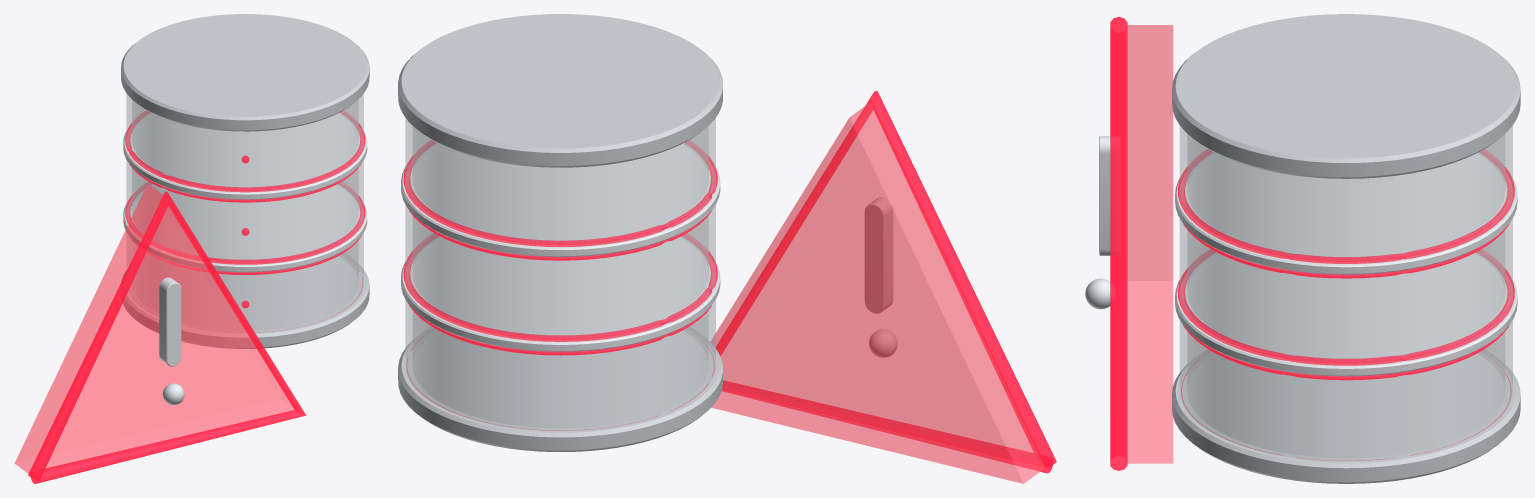
File: 28-risk.glb
3 renders of one model, left to right at view 1: azimuth 30°, elevation 25°; view 2: azimuth 150°, elevation 25°; view 3: azimuth 270°, elevation 25°, orthographic. The views are drawn at different scales.
Parts seen in each view (by area): view 1: BC satin silver metal, BC clear optical glass, BC ruby optical glass, BC polished silver metal, BC neon red glass edge; view 2: BC clear optical glass, BC satin silver metal, BC ruby optical glass, BC polished silver metal, BC neon red glass edge; view 3: BC clear optical glass, BC satin silver metal, BC polished silver metal, BC ruby optical glass, BC neon red glass edge.
Boxes of the visible parts, x1,y1,x2,y2 form: BC satin silver metal: (121,14,369,348); BC clear optical glass: (126,93,363,332); BC ruby optical glass: (14,184,297,473); BC polished silver metal: (123,113,367,405); BC neon red glass edge: (28,111,365,483); BC clear optical glass: (405,118,715,430); BC satin silver metal: (398,14,722,451); BC ruby optical glass: (711,102,1044,483); BC polished silver metal: (401,143,897,357); BC neon red glass edge: (403,91,1056,473); BC clear optical glass: (1179,125,1512,461); BC satin silver metal: (1172,14,1520,483); BC polished silver metal: (1085,136,1517,376); BC ruby optical glass: (1125,25,1173,463); BC neon red glass edge: (1110,17,1514,470).
Size of the model in its own units: 2.16 by 1.47 by 1.44.
